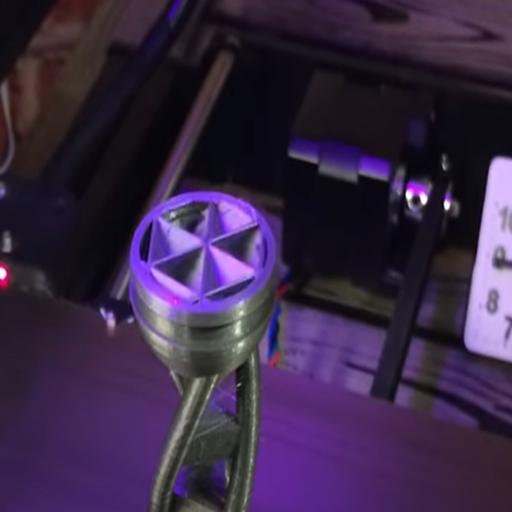stringing: (190, 378, 242, 443)
